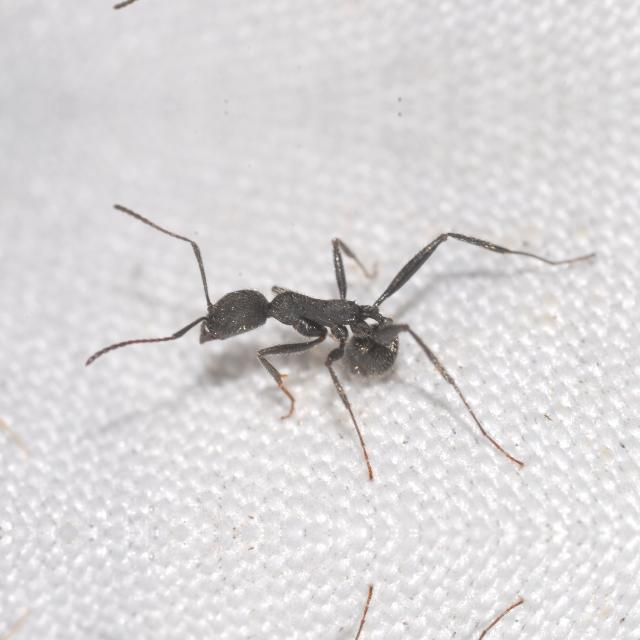Apheanogaster: (158, 247, 442, 403)
